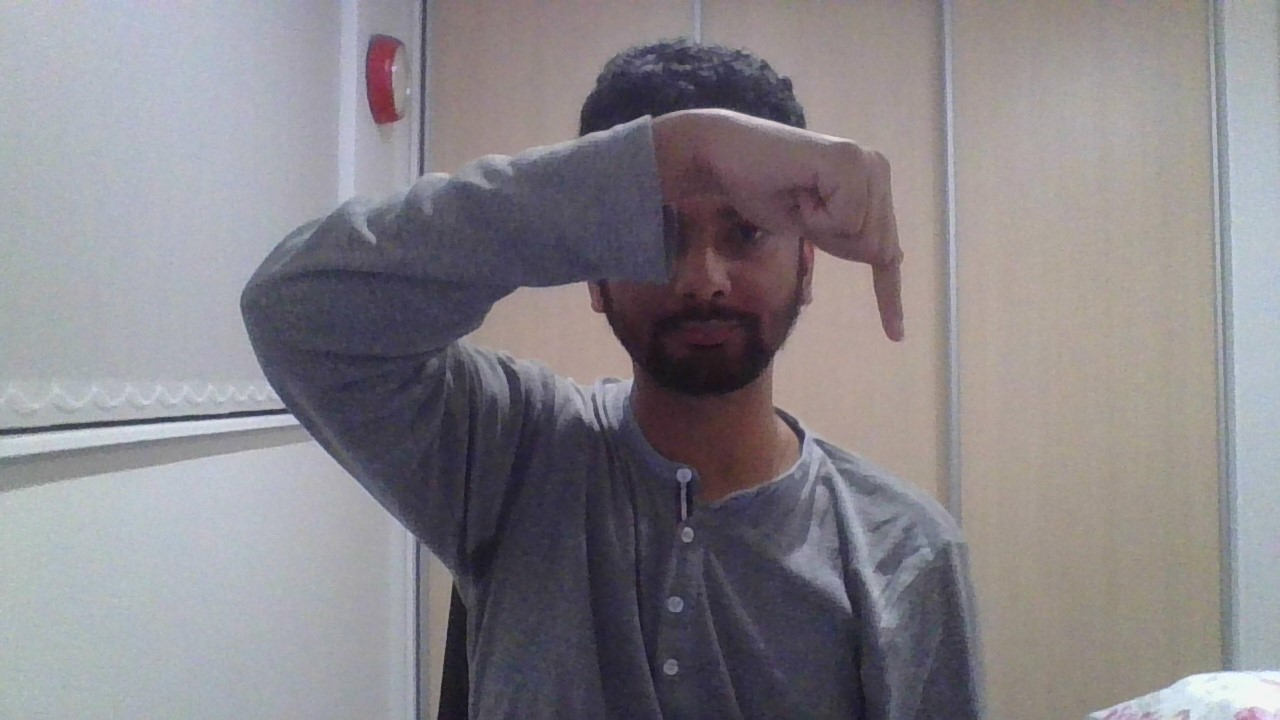below: (653, 106, 905, 343)
